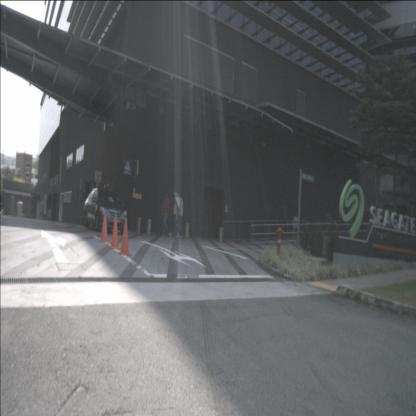cone: (117, 219, 133, 255), (108, 214, 121, 248), (99, 210, 110, 242)
